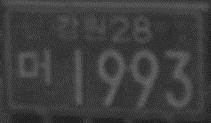1: (65, 49, 90, 103)
2: (109, 14, 132, 44)
3: (164, 49, 194, 107)
8: (131, 14, 152, 44)
9: (129, 49, 159, 108), (96, 48, 125, 105)
강원_O: (54, 12, 106, 42)
머: (17, 48, 52, 85)
